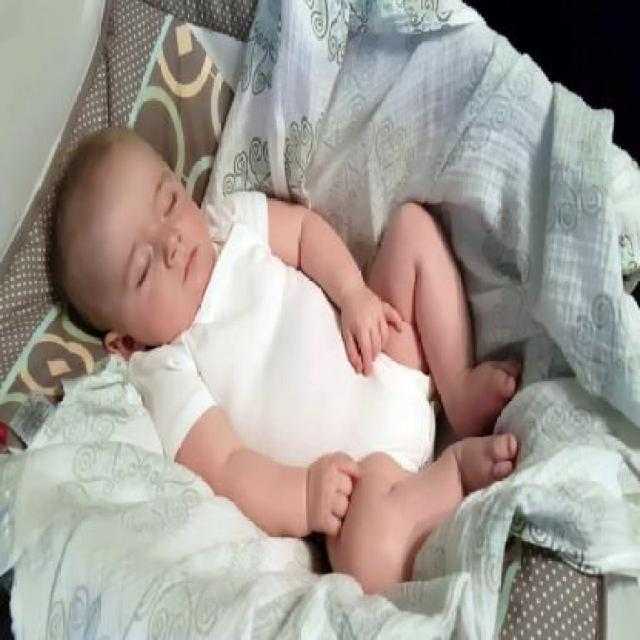baby: (48, 120, 524, 600)
